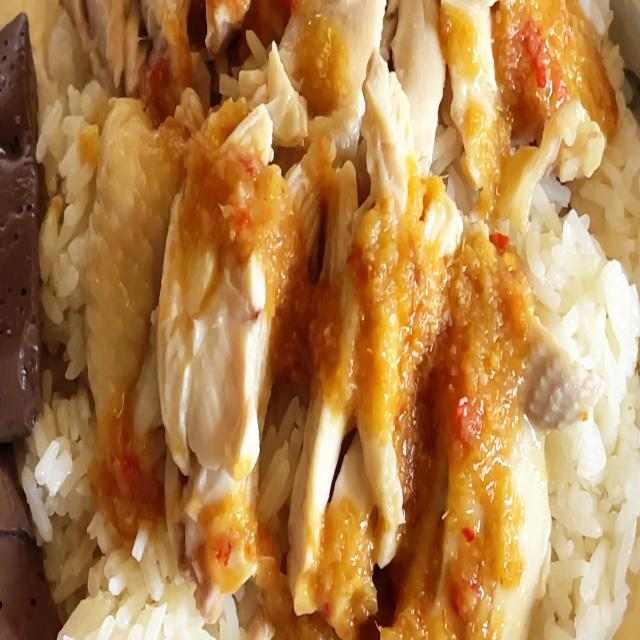boiled_chicken: (90, 0, 568, 514)
boiled_chicken_blood_jelly: (0, 7, 42, 446), (0, 451, 59, 640)
chicken_rice: (0, 0, 640, 640)
